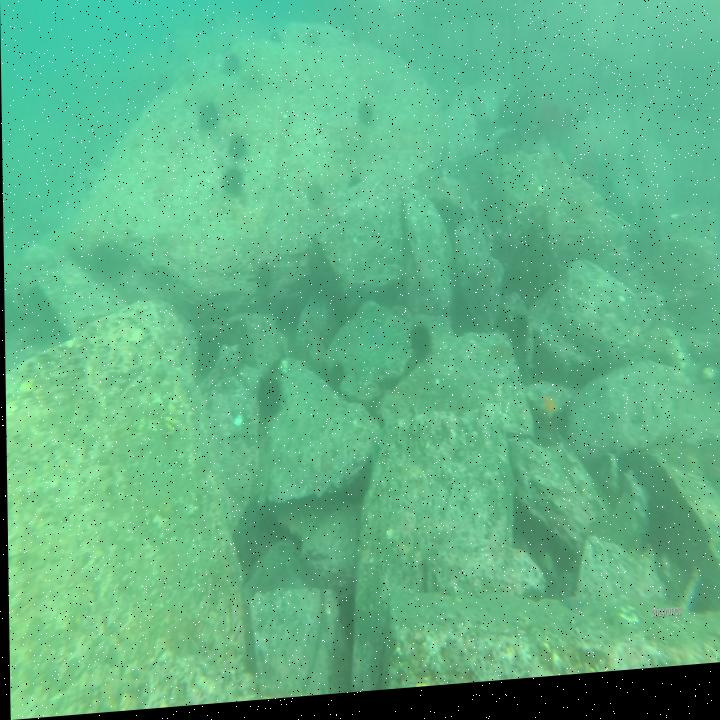echinus: (255, 372, 283, 423), (409, 327, 432, 369), (222, 170, 245, 200), (305, 185, 326, 217), (199, 101, 218, 135), (355, 104, 374, 135), (226, 138, 247, 164), (222, 55, 240, 82)
starfish: (528, 392, 565, 440)
